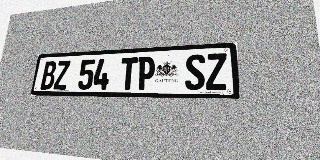4: (92, 58, 111, 90)
5: (77, 59, 95, 90)
B: (40, 61, 57, 90)
P: (136, 56, 155, 90)
S: (185, 54, 205, 90)
T: (119, 57, 138, 90)
Z: (206, 53, 227, 90), (53, 60, 70, 90)
